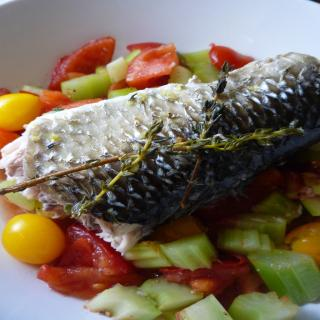tomato: (34, 222, 138, 300), (161, 251, 248, 297), (53, 36, 115, 88), (126, 41, 182, 89), (210, 41, 254, 73), (38, 90, 104, 109), (0, 126, 18, 147), (125, 42, 162, 52)
